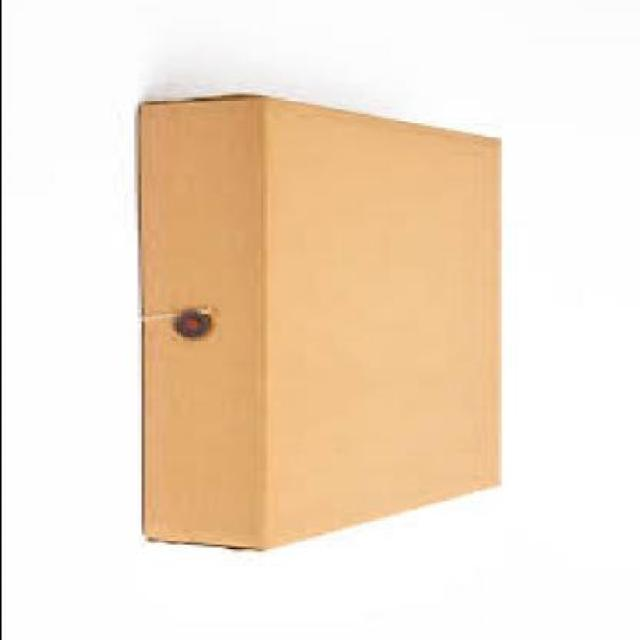CARDBOARD: (137, 95, 503, 554)
